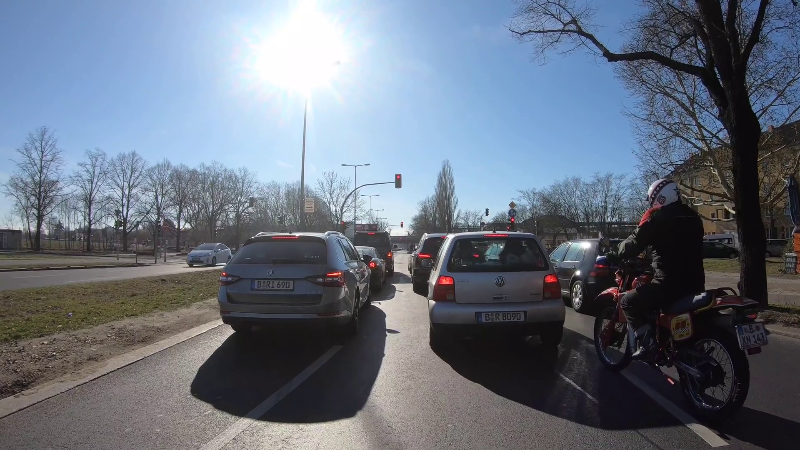Plate: (473, 309, 527, 324), (247, 276, 296, 292)
